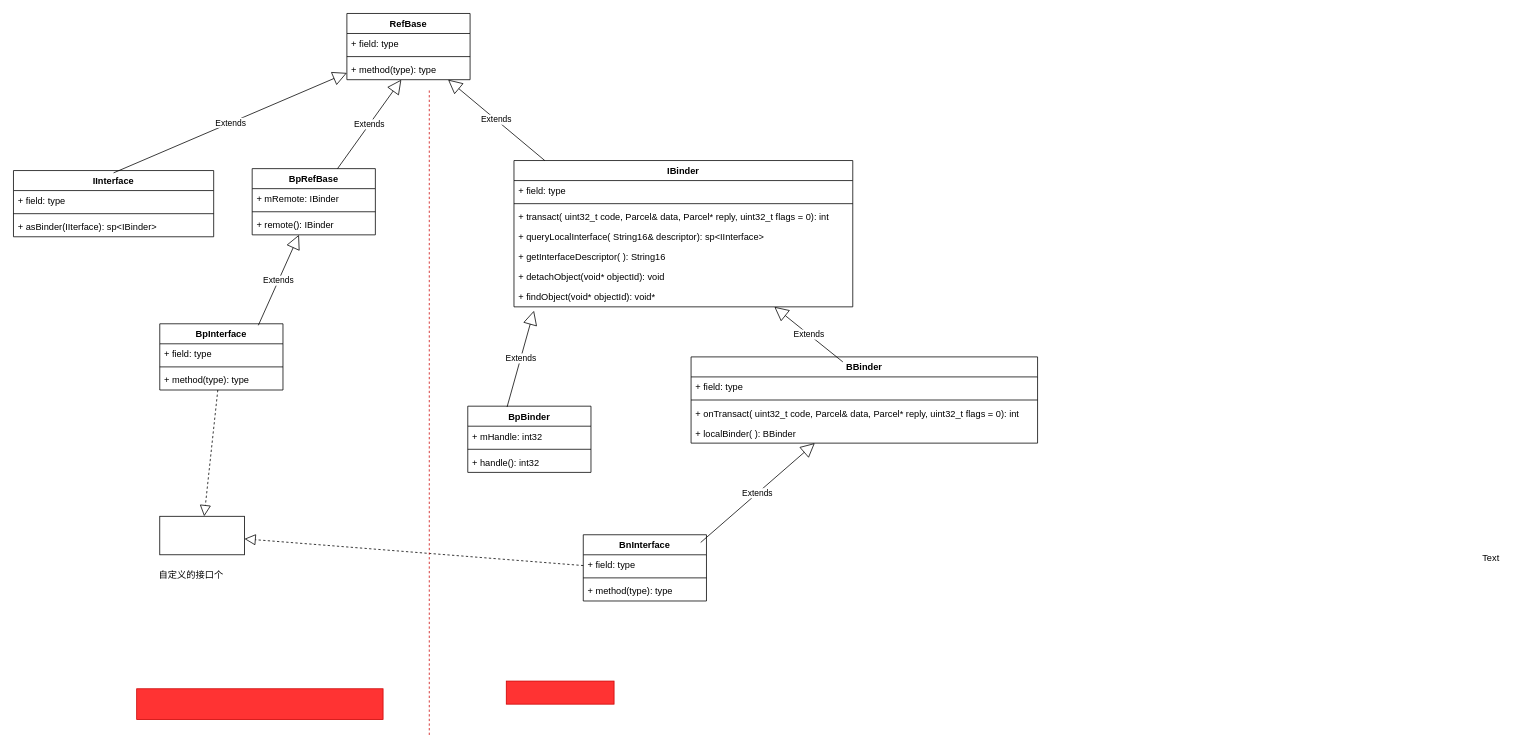
Some shapes in this 1525 by 749 pixel diagram are drawn without their labels. Each missing label, with the centre of its shape:
«IINTERFACE» Name: (201,535)
代理端相关类, 用于 Client端向服务端发送与接收 数据: (259,704)
远程服务端端相关类: (560,692)
